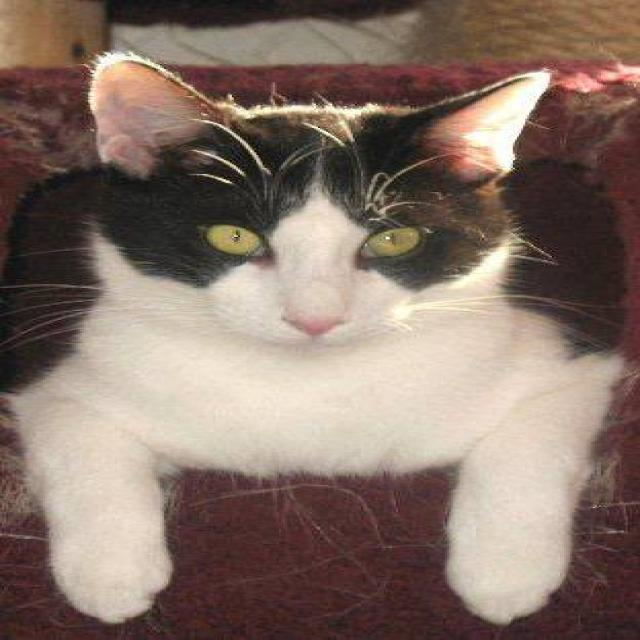cat: (0, 50, 628, 626)
